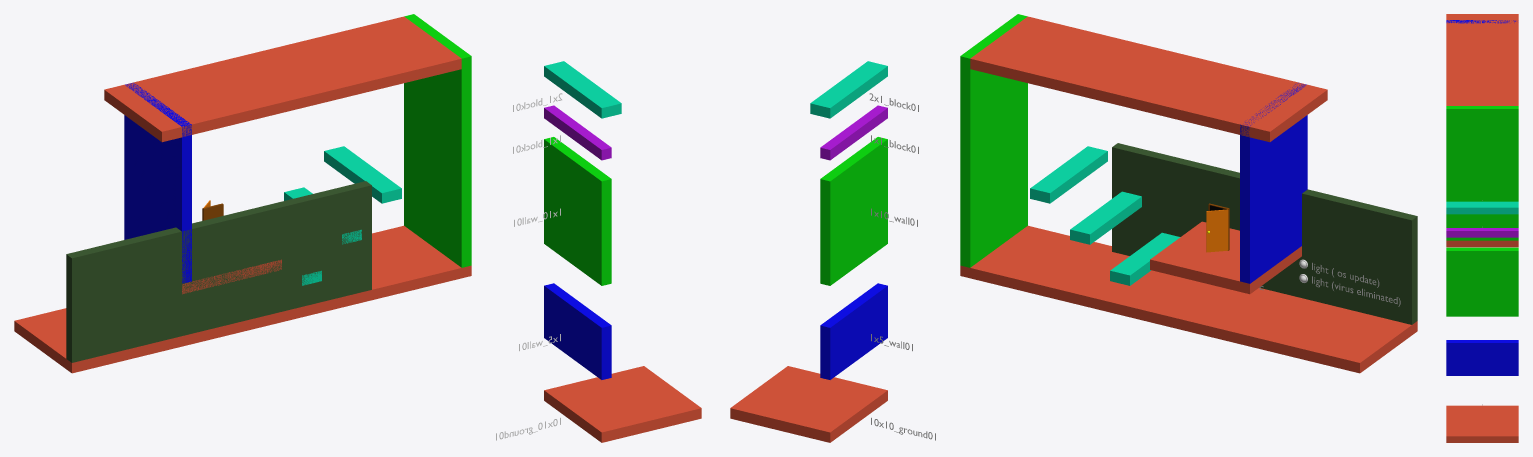
File: level_backdoor_v0.006.fbx
3 views of the same model, side by side, from view 1: azimuth 30°, elevation 25°; view 2: azimuth 150°, elevation 25°; view 3: azimuth 270°, elevation 25° (orthographic). The views are drawn at different scales.
Visible parts, largest first — view 1: 10x10_backwall01.002, 10x10_backwall01.007, 10x10_backwall01.001, 1x10_wall01, 10x10_ground01, 10x10_ground01.008, 1x10_wall01.001, 10x10_ground01.006, 10x10_ground01.007, 1x10_wall01.002, 10x10_ground01.001, 1x10_wall01.003 (+10 smaller); view 2: 10x10_backwall01.002, 10x10_backwall01.007, 1x10_wall01, 10x10_ground01.008, 10x10_ground01, 1x10_wall01.001, 10x10_ground01.004, 10x10_ground01.006, 10x10_ground01.007, 10x10_ground01.001, 10x10_ground01.003, 1x10_wall01.002 (+13 smaller); view 3: 1x10_wall01, 1x10_wall01.002, 1x10_wall01.001, 10x10_ground01, 1x10_wall01.003, 10x10_ground01.007, 10x10_ground01.006, 10x10_ground01.008, 2x1_block01, 1x1_block01, 10x10_ground01.001, 1x10_wall01.006.
Boxes of the visible parts, x1=… form: 10x10_backwall01.002: x1=66, y1=230, x2=171, y2=362; 10x10_backwall01.007: x1=266, y1=181, x2=371, y2=313; 10x10_backwall01.001: x1=166, y1=205, x2=271, y2=338; 1x10_wall01: x1=544, y1=137, x2=611, y2=285; 10x10_ground01: x1=544, y1=366, x2=701, y2=442; 10x10_ground01.008: x1=104, y1=65, x2=261, y2=142; 1x10_wall01.001: x1=404, y1=121, x2=471, y2=267; 10x10_ground01.006: x1=304, y1=16, x2=461, y2=93; 10x10_ground01.007: x1=204, y1=41, x2=361, y2=117; 1x10_wall01.002: x1=404, y1=14, x2=471, y2=162; 10x10_ground01.001: x1=372, y1=225, x2=471, y2=300; 1x10_wall01.003: x1=544, y1=283, x2=611, y2=379; 10x10_backwall01.002: x1=1312, y1=192, x2=1417, y2=324; 10x10_backwall01.007: x1=1112, y1=143, x2=1217, y2=255; 1x10_wall01: x1=820, y1=137, x2=887, y2=285; 10x10_ground01.008: x1=1170, y1=65, x2=1327, y2=142; 10x10_ground01: x1=730, y1=366, x2=887, y2=442; 1x10_wall01.001: x1=960, y1=121, x2=1027, y2=267; 10x10_ground01.004: x1=1260, y1=300, x2=1417, y2=373; 10x10_ground01.006: x1=970, y1=16, x2=1127, y2=93; 10x10_ground01.007: x1=1070, y1=41, x2=1227, y2=117; 10x10_ground01.001: x1=960, y1=225, x2=1111, y2=300; 10x10_ground01.003: x1=1160, y1=283, x2=1311, y2=348; 1x10_wall01.002: x1=960, y1=14, x2=1027, y2=162; 1x10_wall01: x1=1446, y1=247, x2=1518, y2=316; 1x10_wall01.002: x1=1446, y1=106, x2=1518, y2=174; 1x10_wall01.001: x1=1446, y1=175, x2=1518, y2=240; 10x10_ground01: x1=1446, y1=405, x2=1518, y2=442; 1x10_wall01.003: x1=1446, y1=340, x2=1518, y2=375; 10x10_ground01.007: x1=1446, y1=44, x2=1518, y2=75; 10x10_ground01.006: x1=1446, y1=75, x2=1518, y2=105; 10x10_ground01.008: x1=1446, y1=14, x2=1518, y2=44; 2x1_block01: x1=1446, y1=201, x2=1518, y2=214; 1x1_block01: x1=1446, y1=228, x2=1518, y2=237; 10x10_ground01.001: x1=1446, y1=240, x2=1518, y2=247; 1x10_wall01.006: x1=1446, y1=20, x2=1515, y2=23.
Bounding box in the file's own units: 6300 × 4023 × 1000.
